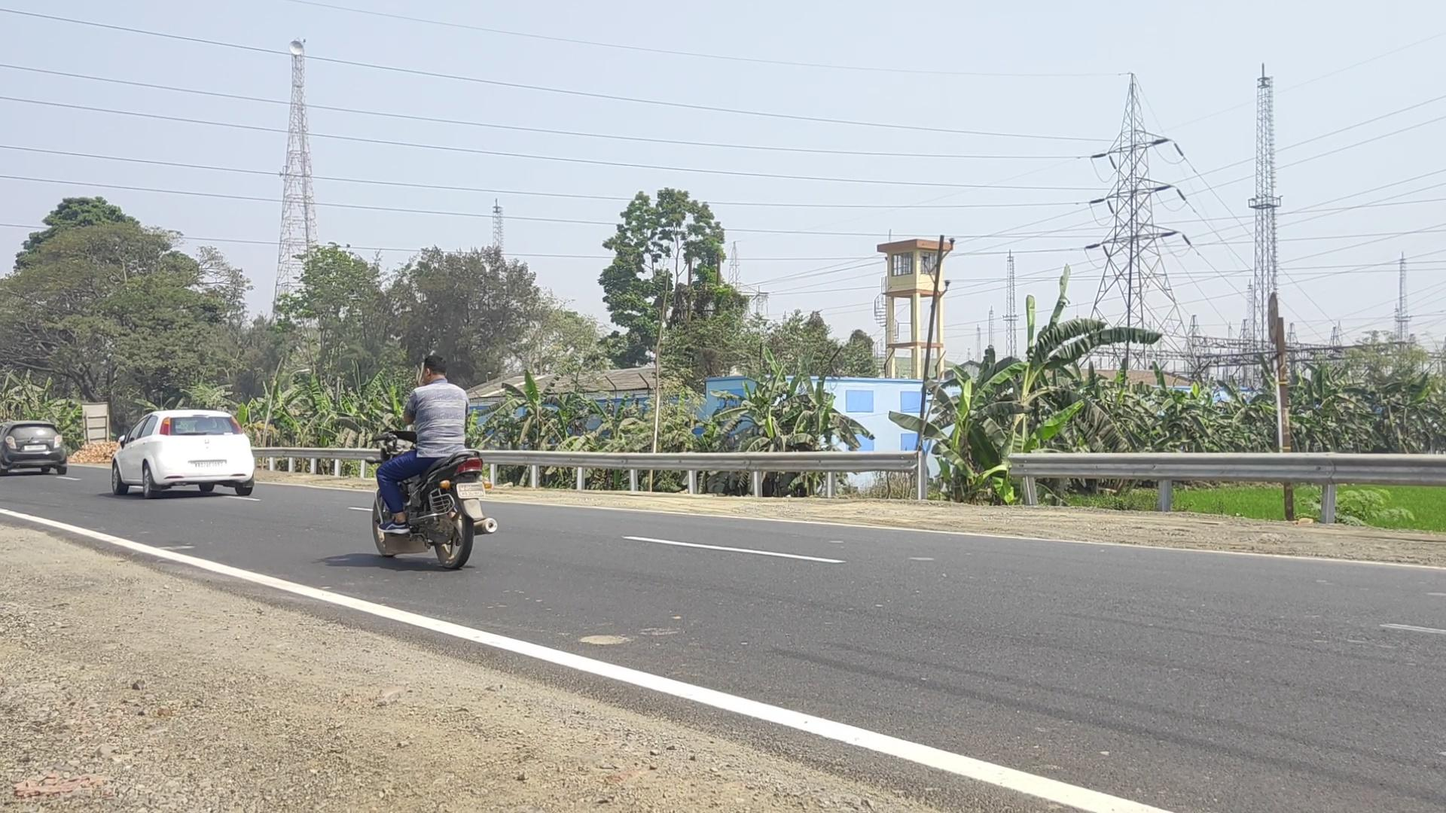bike: (368, 355, 498, 571)
car: (111, 409, 255, 500), (1, 420, 68, 477)
